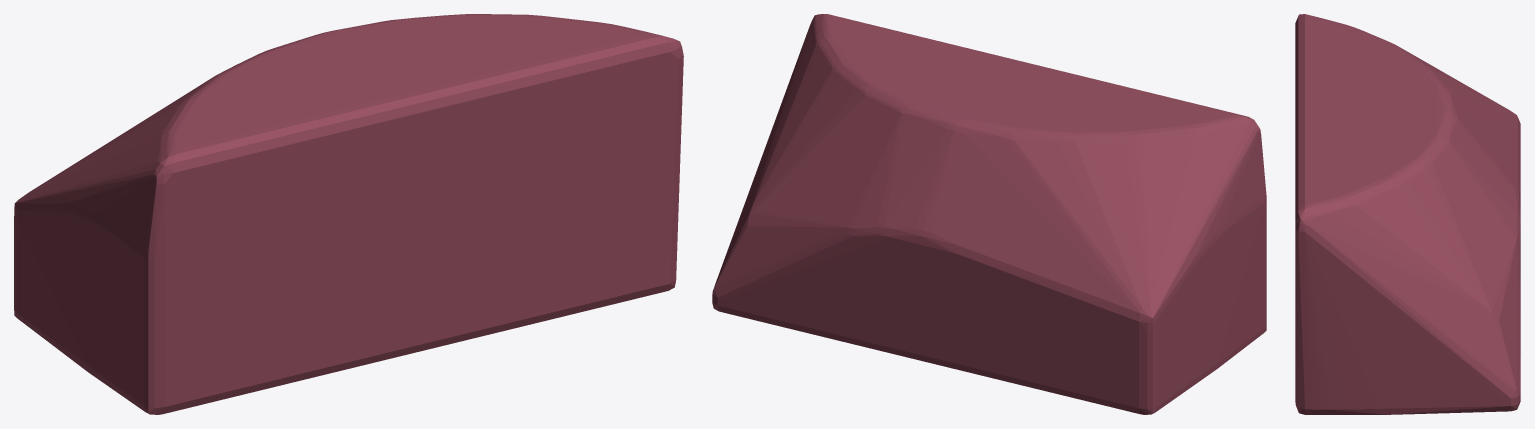
Rendered from right_shoulder_pitch_link_part_13.obj.
3 renders of one model, left to right at view 1: azimuth 30°, elevation 25°; view 2: azimuth 150°, elevation 25°; view 3: azimuth 270°, elevation 25°, orthographic. The views are drawn at different scales.
Size of the model in its own units: 0.0597 by 0.0273 by 0.027.
